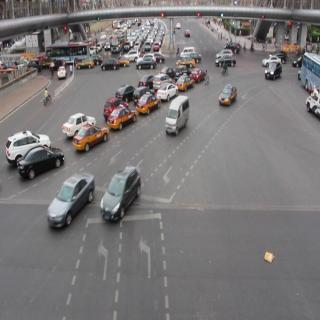BigCar: (300, 52, 320, 90), (47, 41, 79, 62), (110, 31, 124, 53)
Car: (45, 174, 95, 231), (101, 166, 142, 222), (17, 147, 63, 178), (7, 128, 52, 156), (165, 97, 192, 138), (73, 128, 111, 151), (60, 111, 97, 130), (109, 105, 138, 127), (219, 80, 238, 112), (136, 91, 161, 115), (115, 81, 135, 100), (102, 93, 120, 114), (214, 54, 237, 70), (158, 81, 179, 97), (177, 72, 194, 91), (78, 56, 94, 76), (265, 60, 281, 80), (101, 57, 120, 73), (136, 57, 158, 69), (180, 44, 196, 60), (263, 51, 280, 66), (190, 68, 205, 80), (57, 66, 66, 80), (104, 40, 110, 52), (185, 30, 192, 38)
